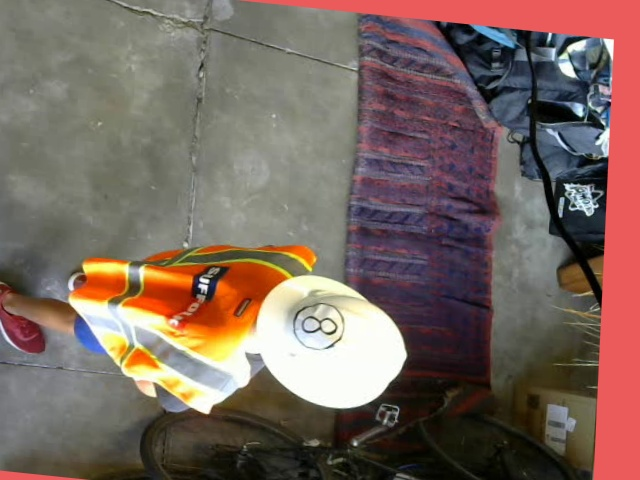eight: (290, 299, 346, 352)
